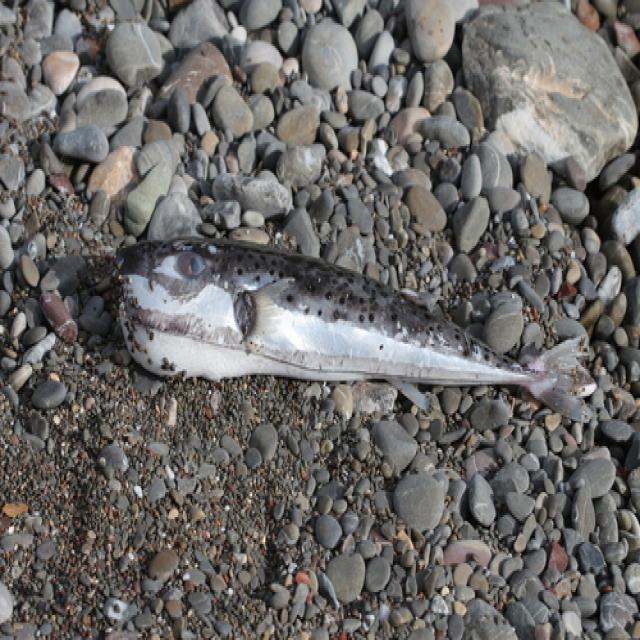Balik: (118, 239, 595, 420)
